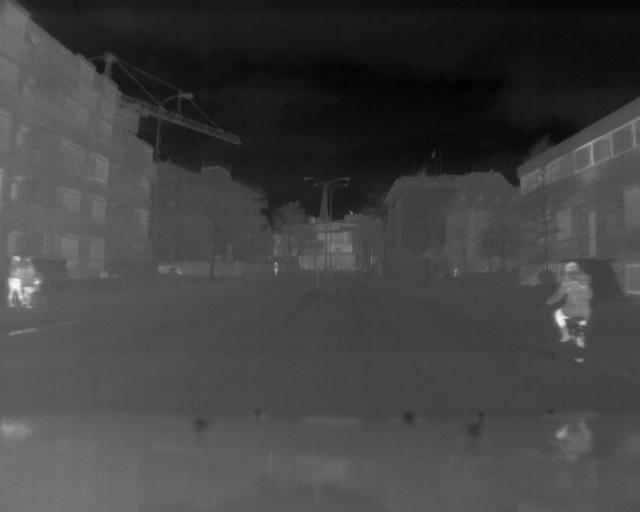person: (544, 256, 589, 367), (17, 255, 38, 311), (8, 251, 23, 310)
